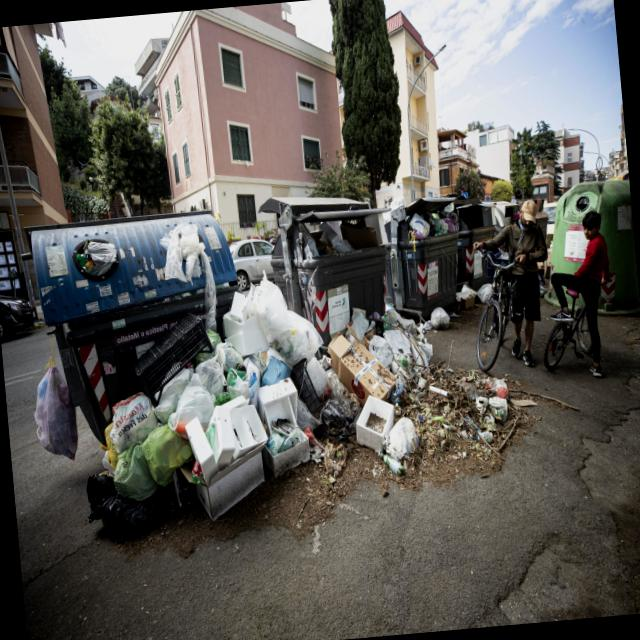garbage: (18, 226, 460, 556)
